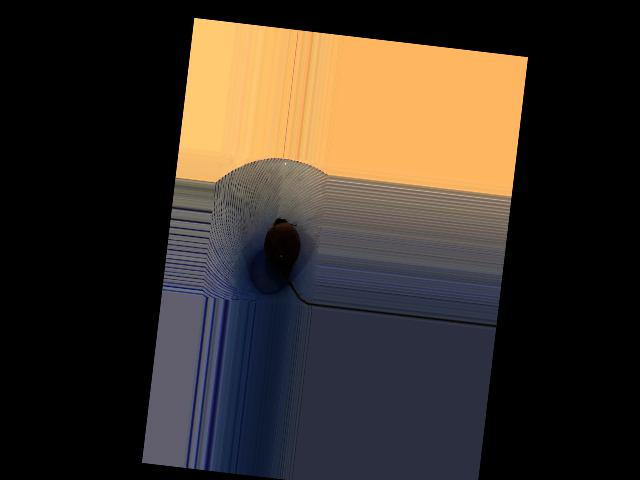beet: (257, 216, 323, 305)
